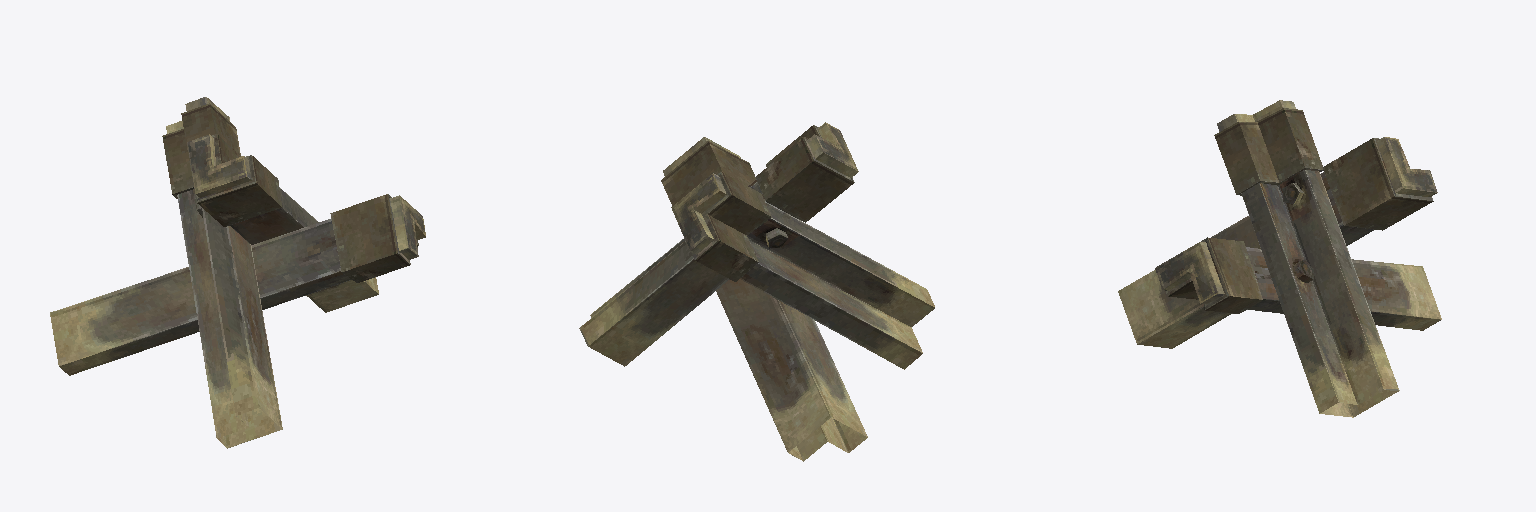
The picture shows the model from 3 angles: view 1: azimuth 30°, elevation 25°; view 2: azimuth 150°, elevation 25°; view 3: azimuth 270°, elevation 25°; orthographic projection.
Parts seen in each view (by area): view 1: Node 0; view 2: Node 0; view 3: Node 0.
Part boxes in pixels (x1,y1,x2,y2): Node 0: (50, 97, 425, 448); Node 0: (579, 122, 934, 461); Node 0: (1118, 100, 1441, 417).
Size of the model in its own units: 5.74 by 4.91 by 5.42.
1 materials, 1 textured.